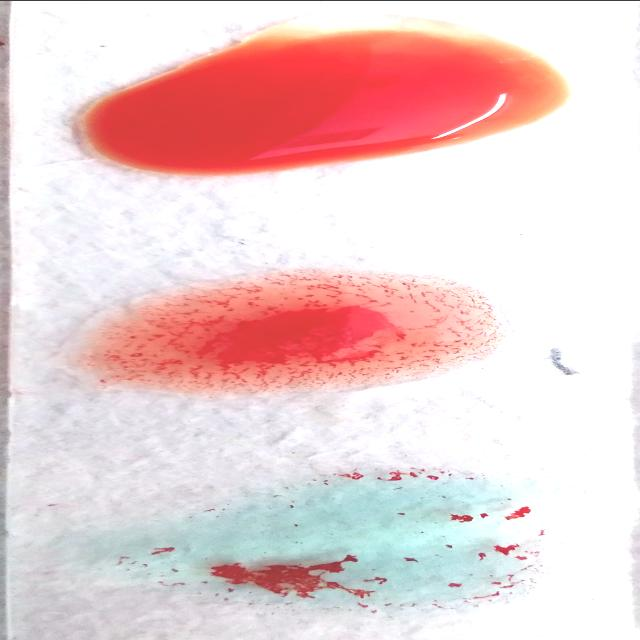A: (106, 476, 560, 610)
D: (80, 272, 514, 391)
